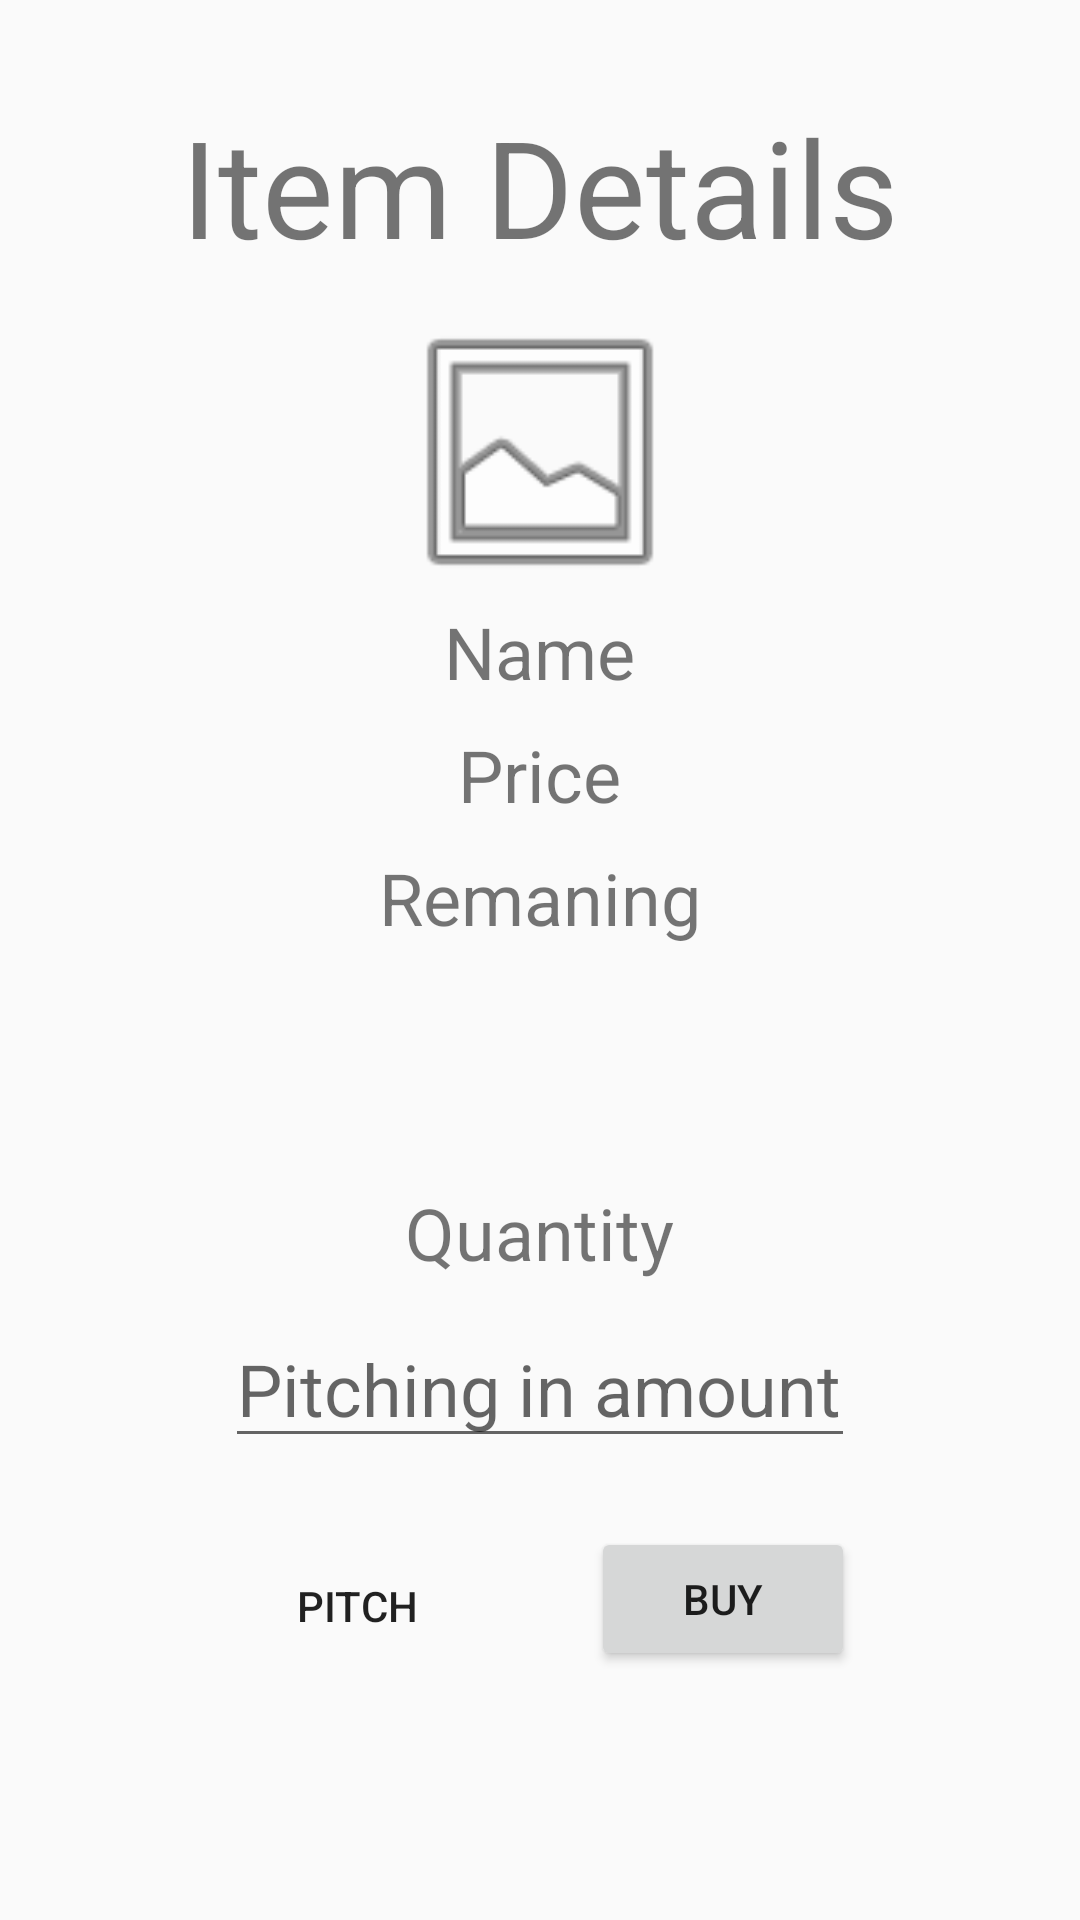

Locate icon controls on the screen. Image size 1080 x 1920, boxes as [x1=x1, y1=y1, x2=x2, y2=y2].
gallery: [x1=427, y1=339, x2=653, y2=565]
